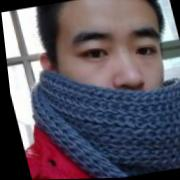WRONG: (49, 12, 179, 142)
